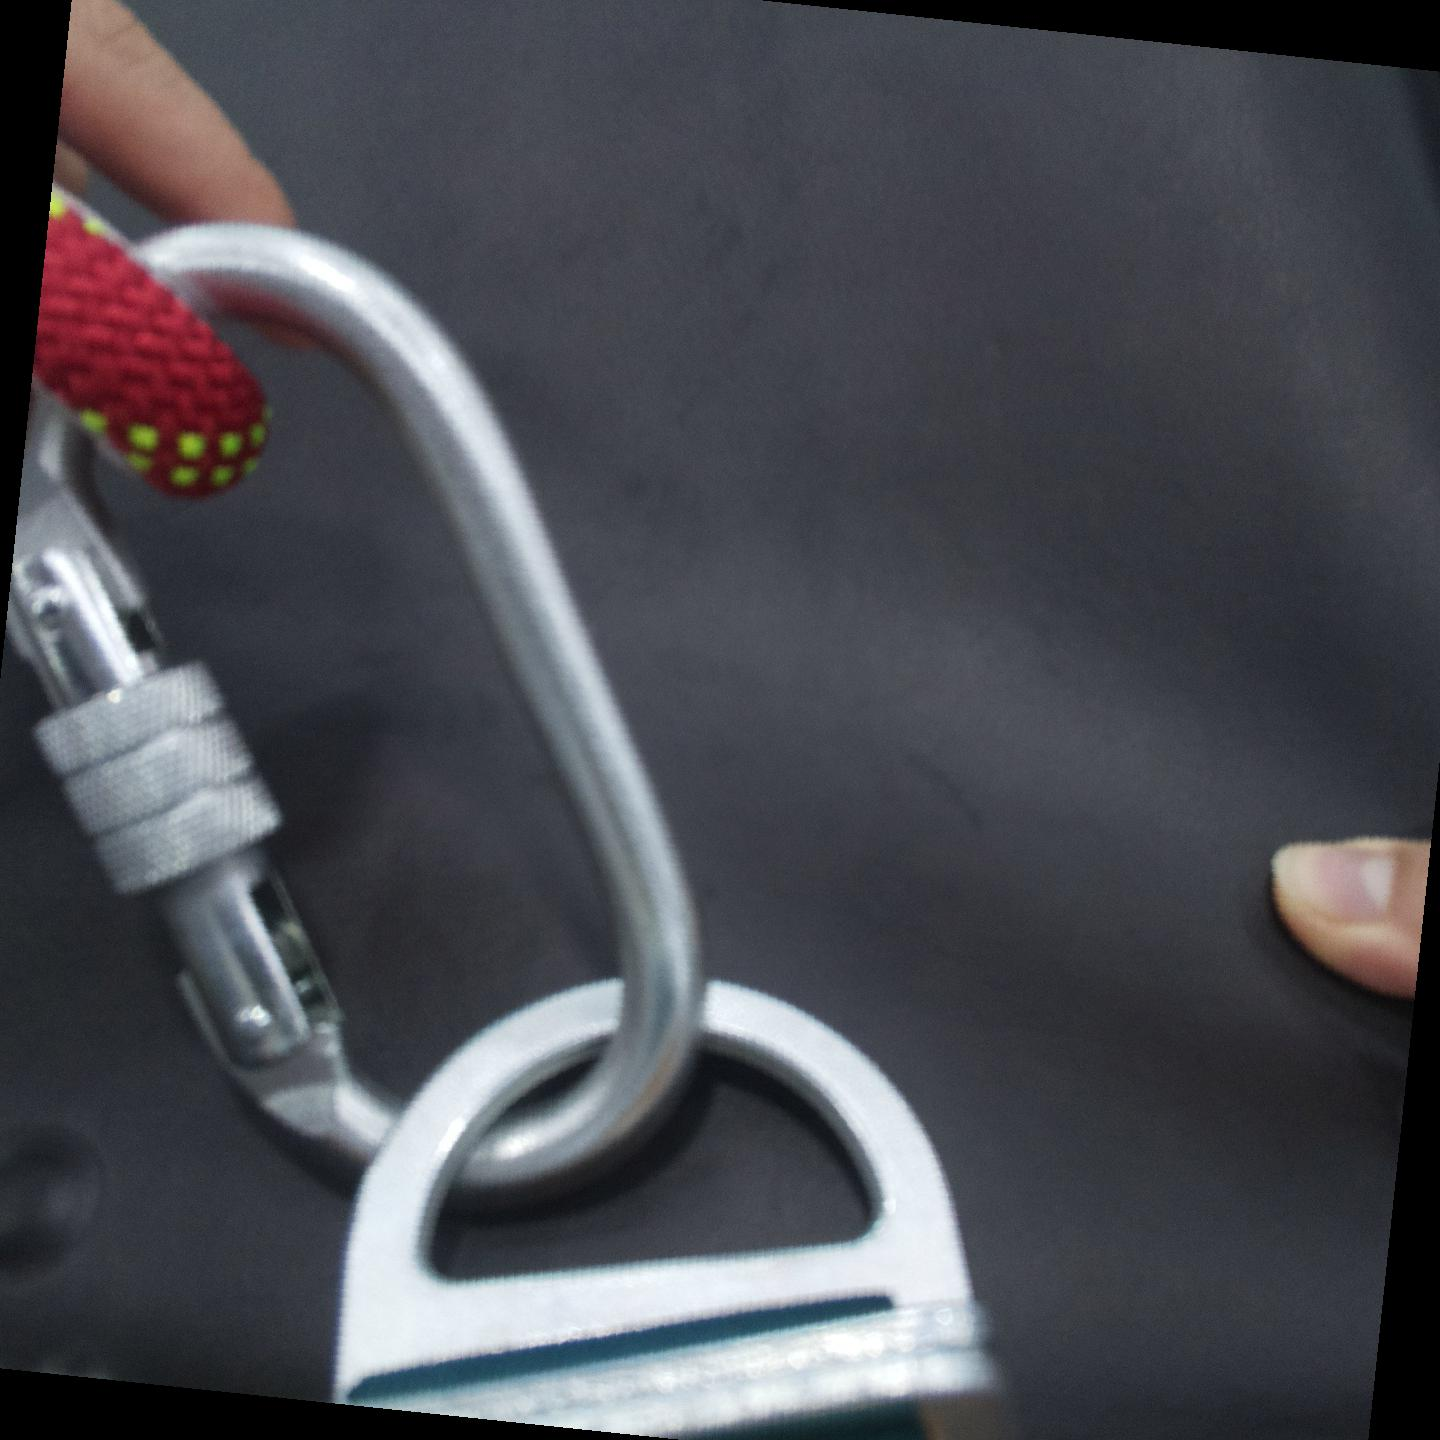SUCCESS: (91, 601, 1026, 1360)
